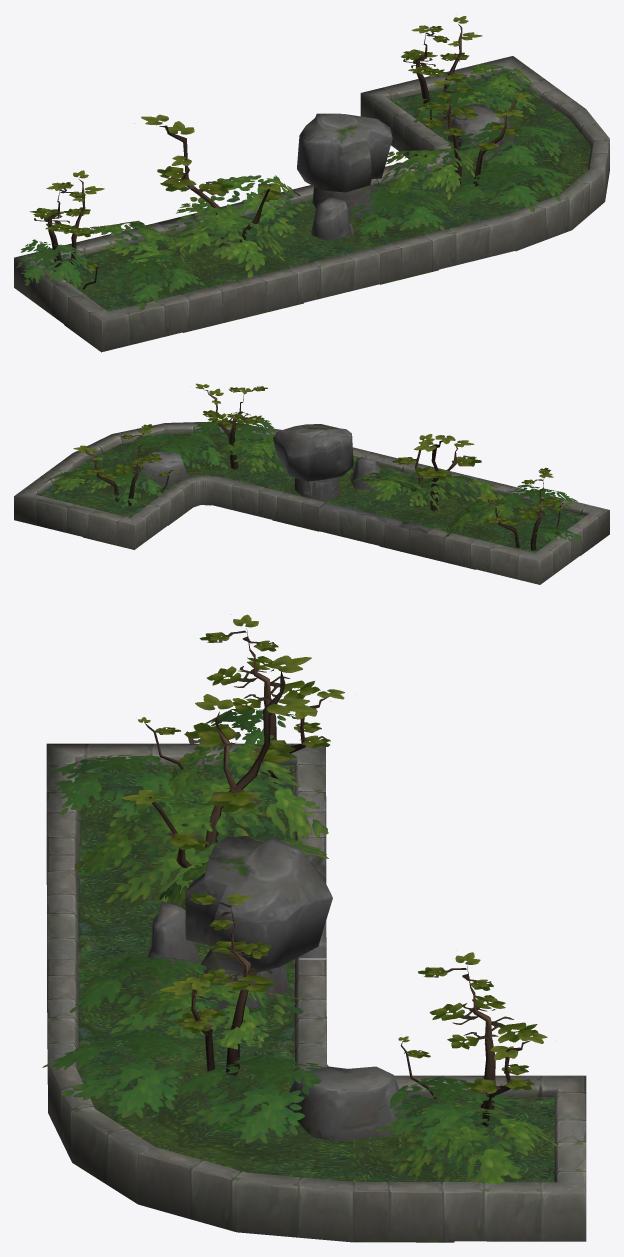
Rendered from cj_luoyang_huatan01_55_57_7597out.fbx.
3 renders of one model, top to bottom at view 1: azimuth 30°, elevation 25°; view 2: azimuth 150°, elevation 25°; view 3: azimuth 270°, elevation 25°, orthographic. The views are drawn at different scales.
Visible parts, largest first — view 1: cj_luoyang_huatan01; view 2: cj_luoyang_huatan01; view 3: cj_luoyang_huatan01.
Part boxes in pixels (box(x1,y1,x2,y2)): cj_luoyang_huatan01: box(14, 16, 609, 352); cj_luoyang_huatan01: box(14, 383, 609, 584); cj_luoyang_huatan01: box(42, 614, 586, 1242).
Size of the model in its own units: 8.85 by 2.07 by 4.39.
